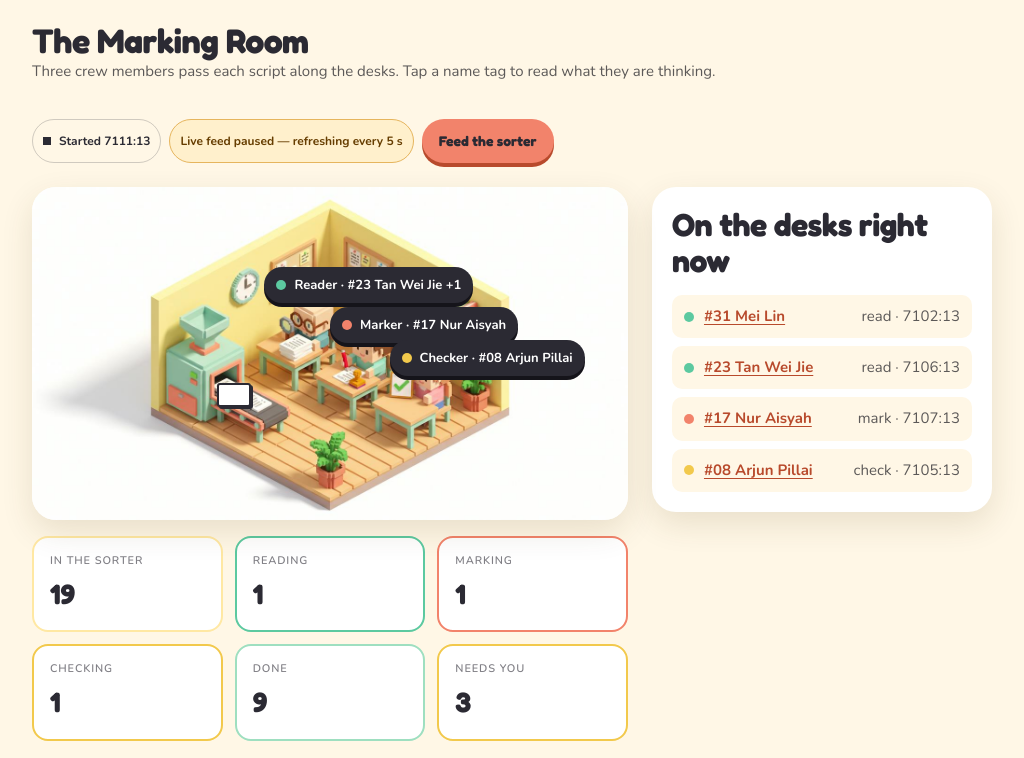
MarkingRoom › tags the oldest script at a shared stage with +N and keeps every script reachable in the list
Expected: the button "Reader · #23 Tan Wei Jie +1" is shown, x1=264 y1=267 x2=473 y2=303
Expected: the button "#23 Tan Wei Jie" is shown, x1=704 y1=356 x2=813 y2=380
Click the button "#08 Arjun Pillai" at x=758, y=470, box x1=704 y1=459 x2=813 y2=482
(page scrolled)
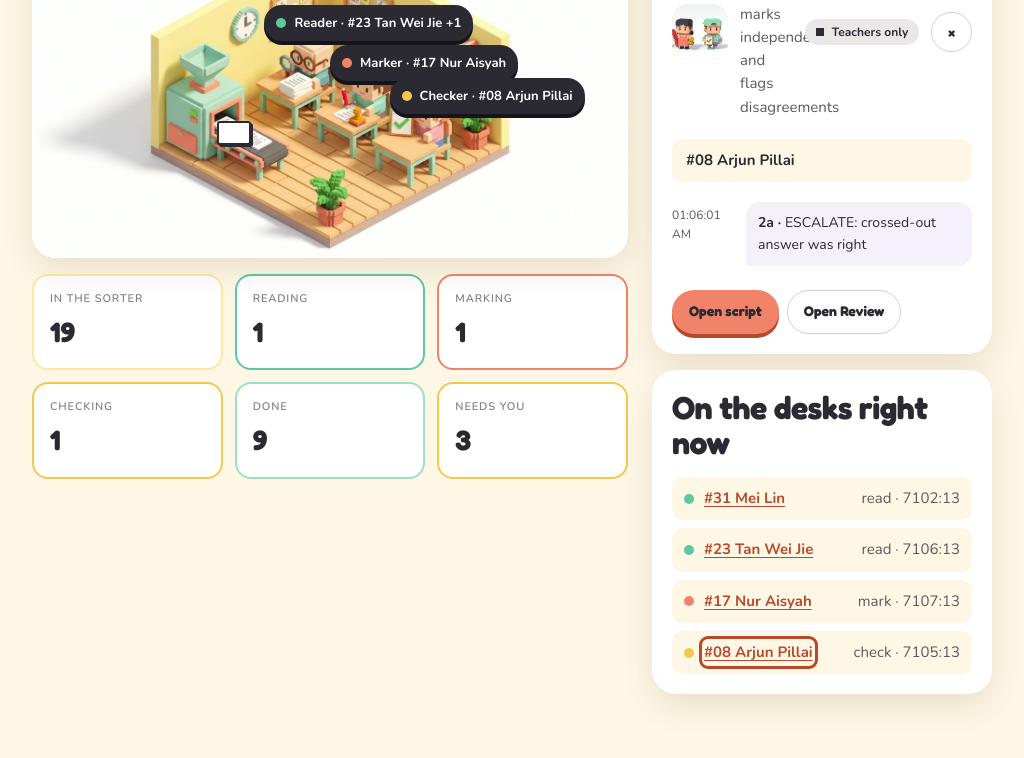
Expected: the list named "On the desks right now" is shown, x1=672 y1=477 x2=972 y2=674
Expected: the text "ESCALATE: crossed-out answer was right" is shown, x1=758 y1=213 x2=936 y2=254
